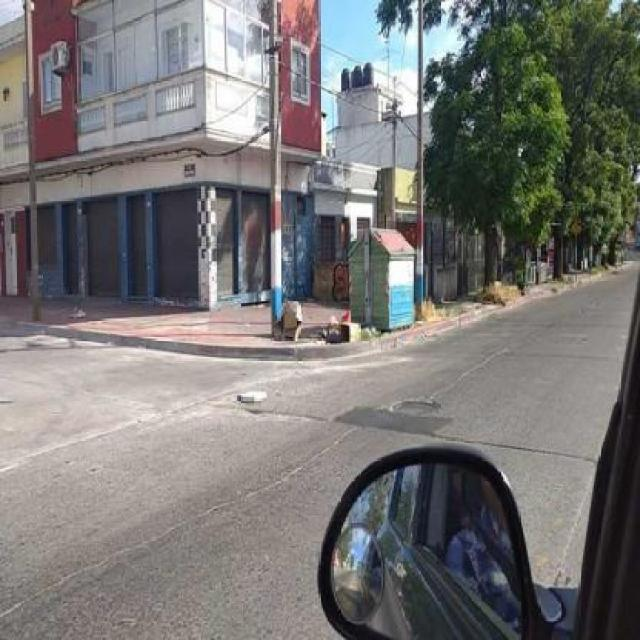garbage: (272, 291, 366, 341), (235, 385, 272, 412), (66, 295, 89, 320)
